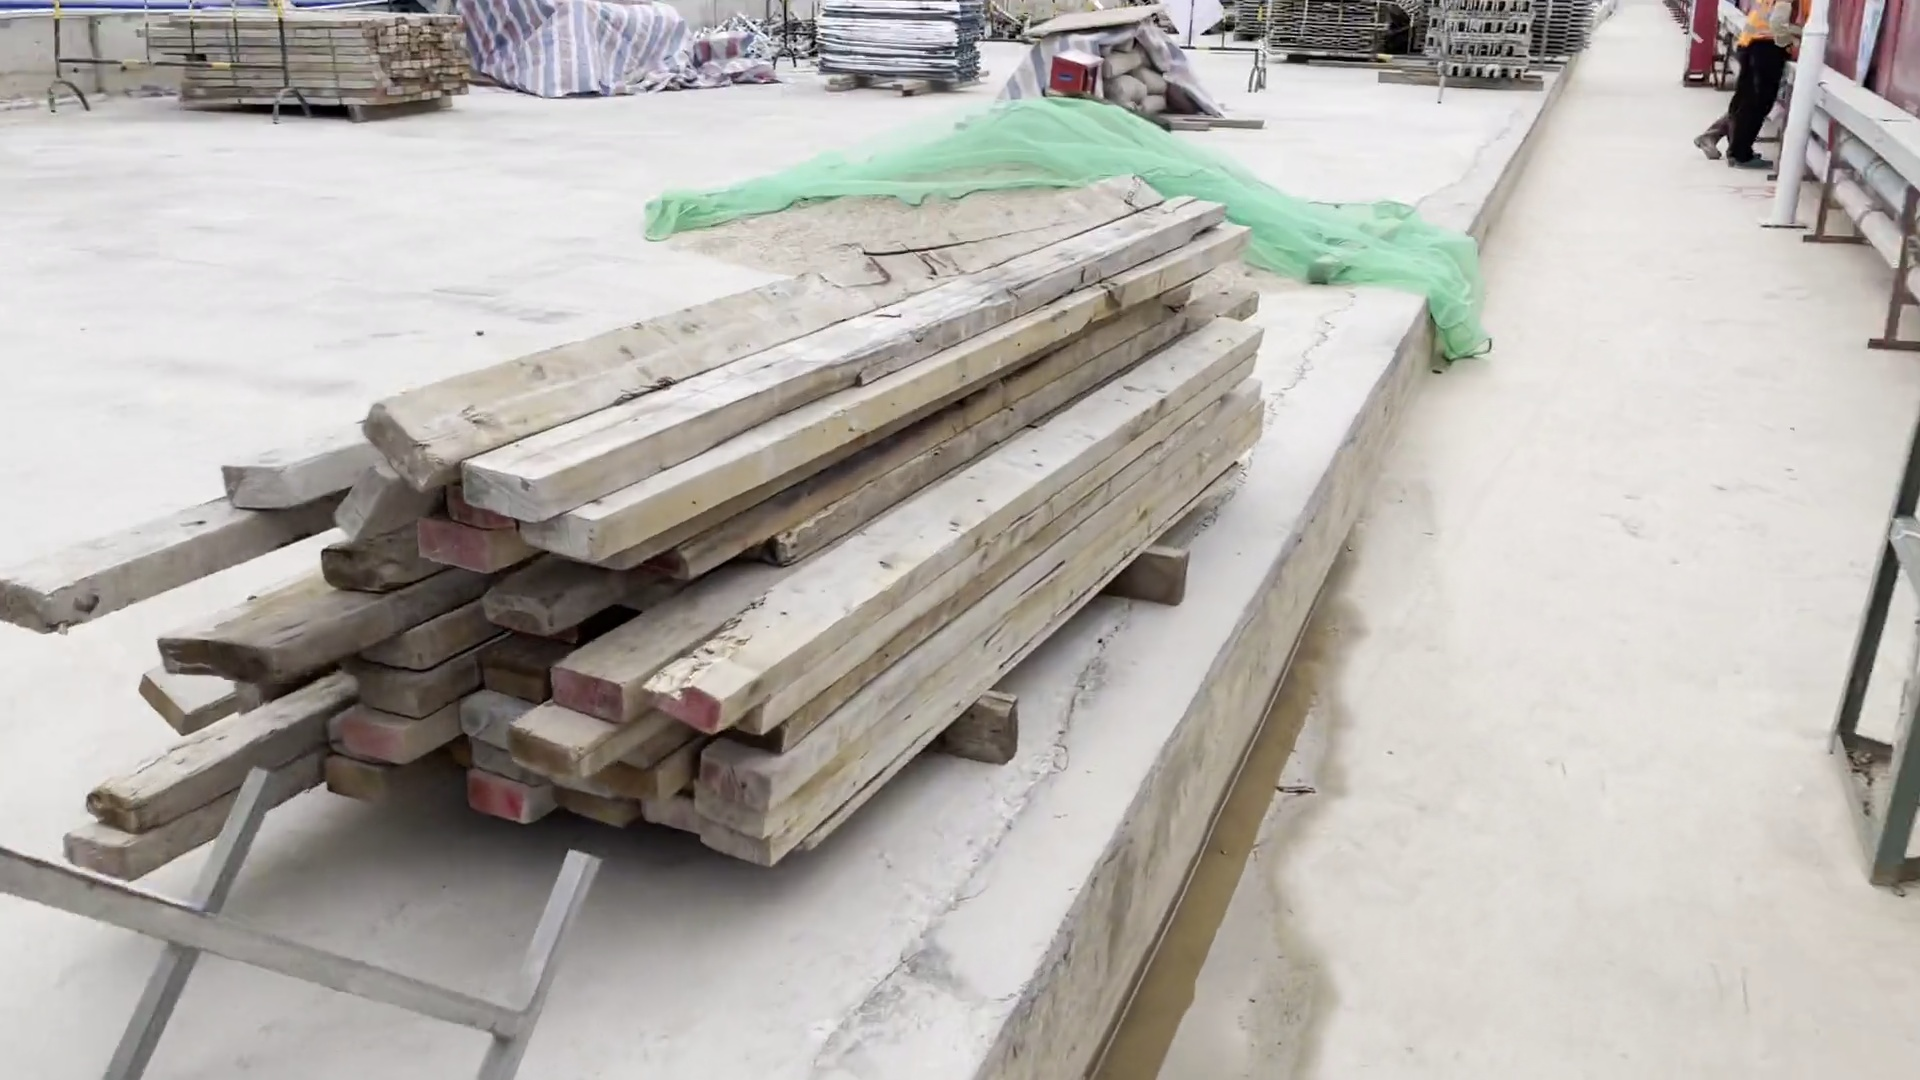fence: (1818, 4, 1917, 137)
person: (1692, 1, 1796, 192)
slogan: (1840, 1, 1914, 104)
vest: (1733, 4, 1803, 66)
wood: (2, 122, 1329, 912), (131, 8, 491, 135)
